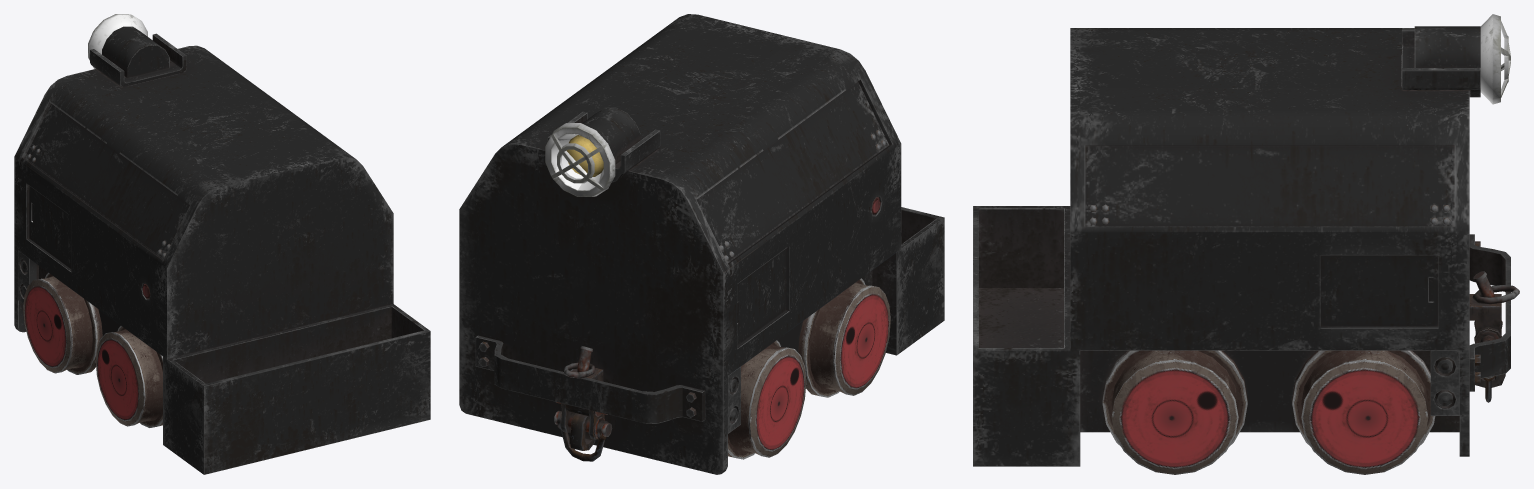
The model's file is minecartengine.dae.
3 views of the same model, side by side, from view 1: azimuth 30°, elevation 25°; view 2: azimuth 150°, elevation 25°; view 3: azimuth 270°, elevation 25° (orthographic). The views are drawn at different scales.
Parts seen in each view (by area): view 1: MineCartEngine; view 2: MineCartEngine; view 3: MineCartEngine.
Part boxes in pixels (left/top/right/bottom): MineCartEngine: left=14, top=14, right=430, bottom=474; MineCartEngine: left=459, top=14, right=944, bottom=474; MineCartEngine: left=973, top=14, right=1519, bottom=474.
Size of the model in its own units: 7.24 by 10.72 by 8.4.
1 material, 1 textured.
